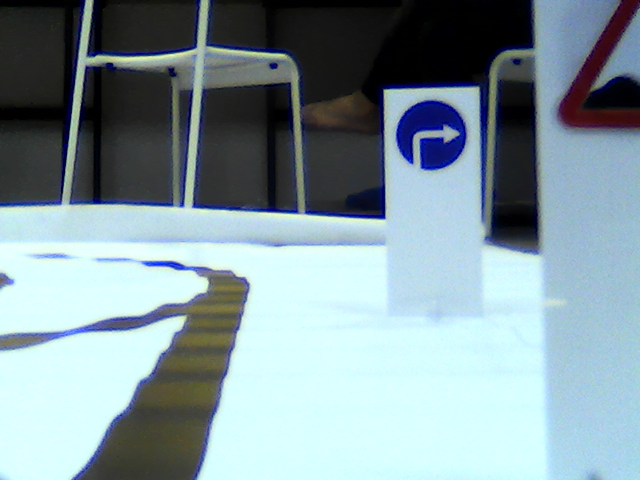Right: (393, 100, 469, 170)
